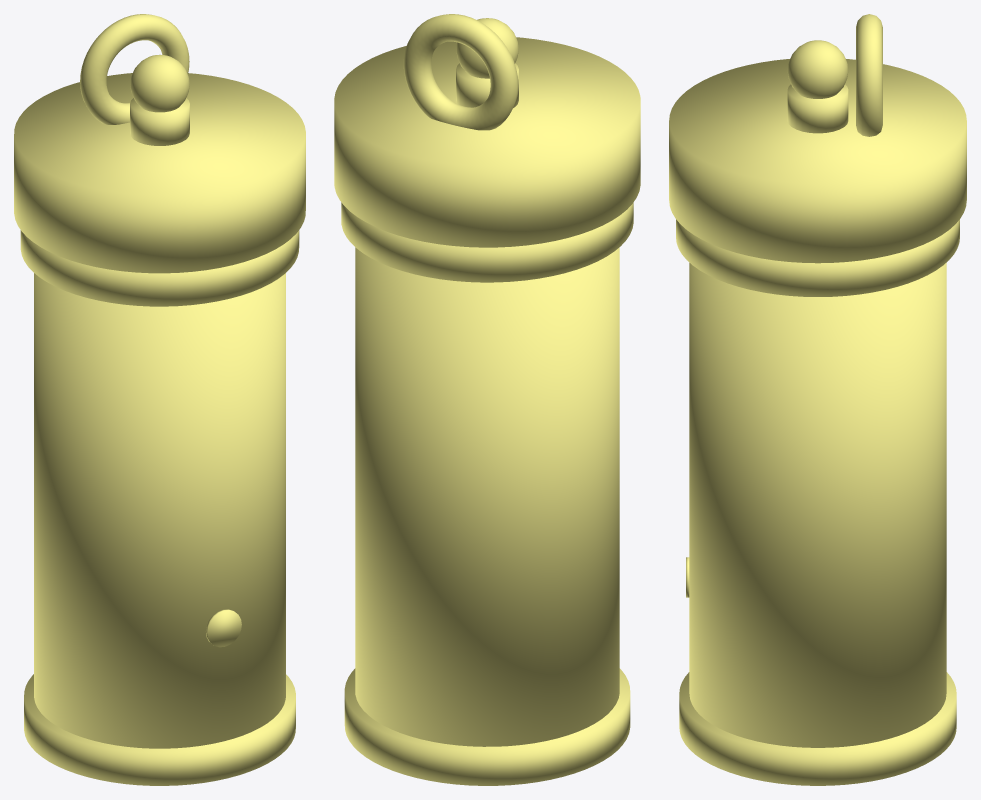
The model's file is yellowwaterbottle.fbx.
The picture shows the model from 3 angles, left to right: view 1: azimuth 30°, elevation 25°; view 2: azimuth 150°, elevation 25°; view 3: azimuth 270°, elevation 25°; orthographic projection. The views are drawn at different scales.
Parts seen in each view (by area): view 1: YellowWaterBottle; view 2: YellowWaterBottle; view 3: YellowWaterBottle.
Part boxes in pixels (left/top/right/bottom): YellowWaterBottle: left=14, top=14, right=305, bottom=785; YellowWaterBottle: left=334, top=14, right=640, bottom=785; YellowWaterBottle: left=669, top=14, right=966, bottom=785.
Size of the model in its own units: 8.8 by 23.08 by 8.8.
